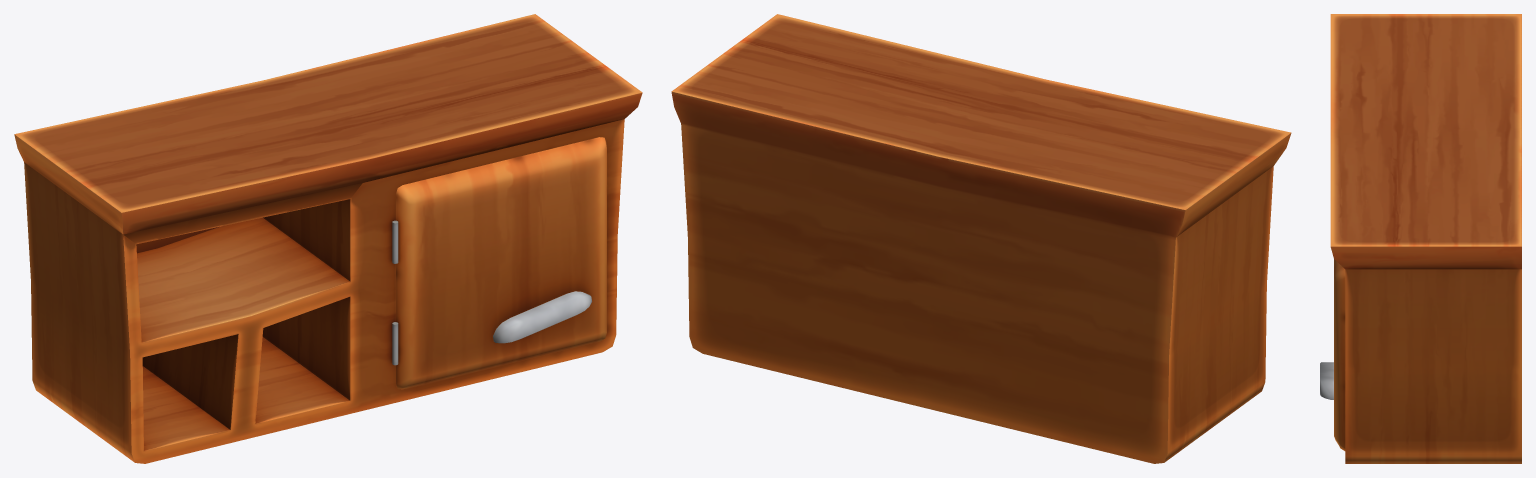
File: KitchenFurniture01_2.FBX
3 renders of one model, left to right at view 1: azimuth 30°, elevation 25°; view 2: azimuth 150°, elevation 25°; view 3: azimuth 270°, elevation 25°, orthographic. The views are drawn at different scales.
Visible parts, largest first — view 1: KitchenFurniture01_2; view 2: KitchenFurniture01_2; view 3: KitchenFurniture01_2.
Part boxes in pixels (box(x1,y1,x2,y2)): KitchenFurniture01_2: box(14, 14, 642, 463); KitchenFurniture01_2: box(671, 14, 1291, 463); KitchenFurniture01_2: box(1320, 14, 1521, 463).
Size of what is drawn, in the model's own units: 1.34 by 0.6507 by 0.5047.
